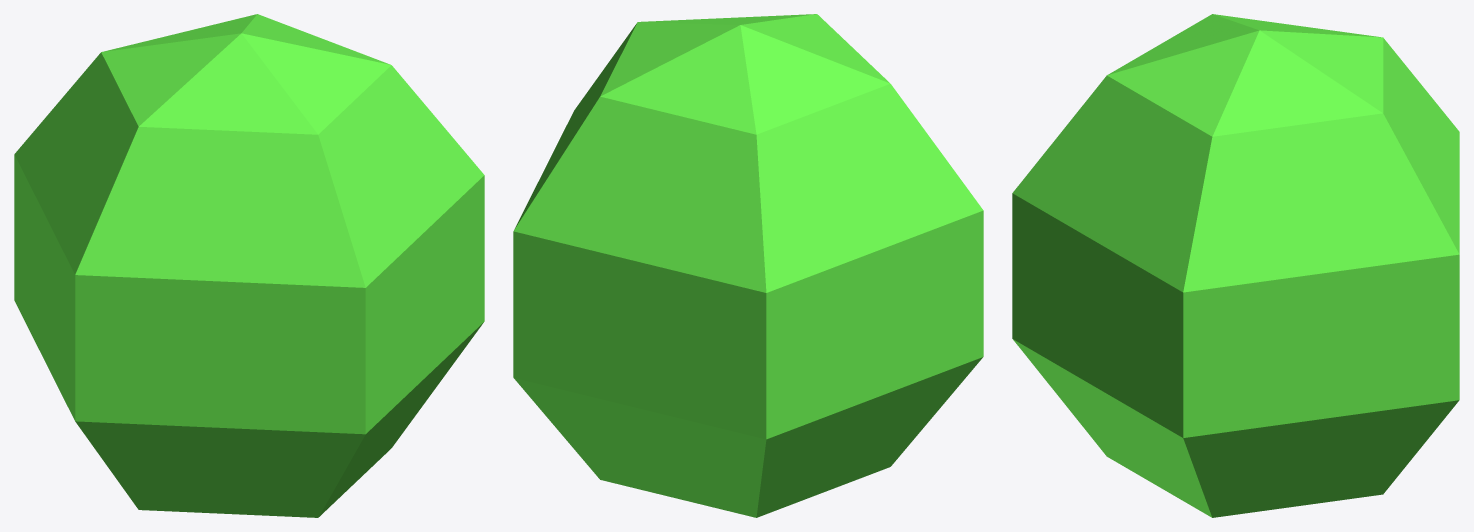
File: beanbeads01.gltf
3 views of the same model, side by side, from view 1: azimuth 30°, elevation 25°; view 2: azimuth 150°, elevation 25°; view 3: azimuth 270°, elevation 25° (orthographic).
Parts seen in each view (by area): view 1: Sphere; view 2: Sphere; view 3: Sphere.
Part boxes in pixels (<box>): Sphere: <box>14,14,484,517</box>; Sphere: <box>513,14,983,517</box>; Sphere: <box>1012,14,1459,517</box>.
Size of the model in its own units: 0.0107 by 0.0118 by 0.0102.
1 material, 1 textured.
